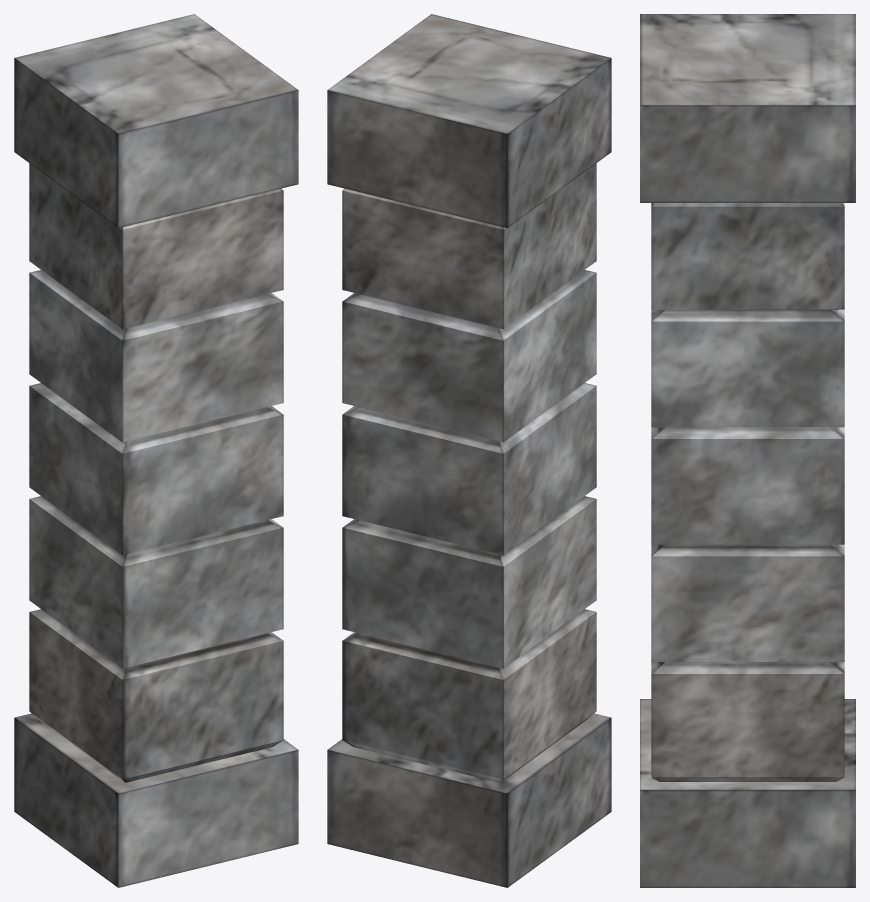
The model's file is Column1.fbx.
The picture shows the model from 3 angles, left to right: view 1: azimuth 30°, elevation 25°; view 2: azimuth 150°, elevation 25°; view 3: azimuth 270°, elevation 25°; orthographic projection. The views are drawn at different scales.
Visible parts, largest first — view 1: Cube; view 2: Cube; view 3: Cube.
Part boxes in pixels (<box>): Cube: <box>14,14,298,887</box>; Cube: <box>327,14,611,887</box>; Cube: <box>640,14,855,887</box>.
Bounding box in the file's own units: 100 × 400 × 100.
